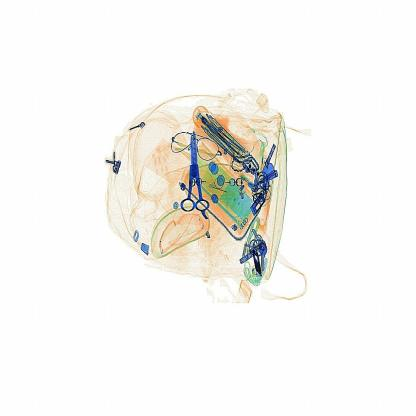gun: (176, 116, 216, 232)
